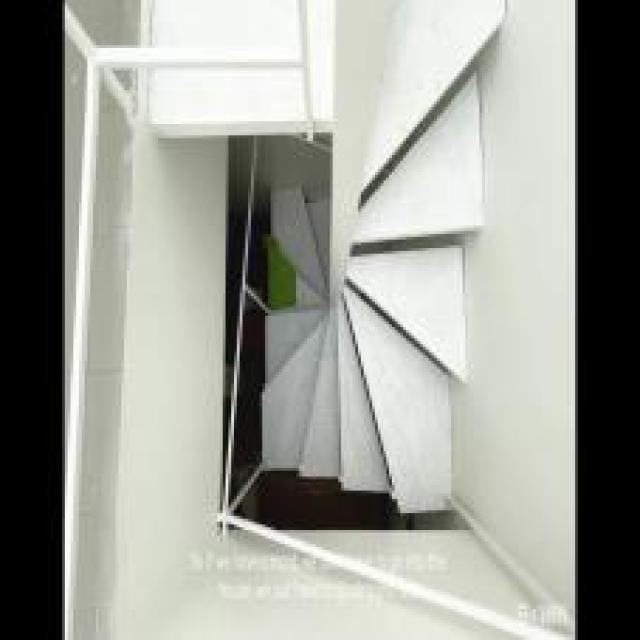downstair: (370, 125, 486, 534)
